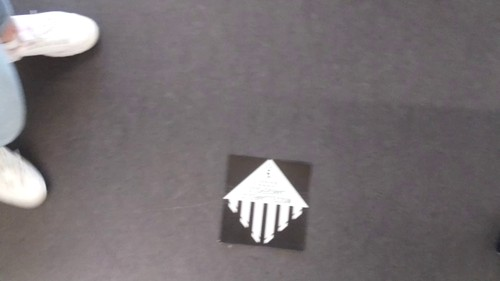misgoods: (225, 154, 312, 251)
